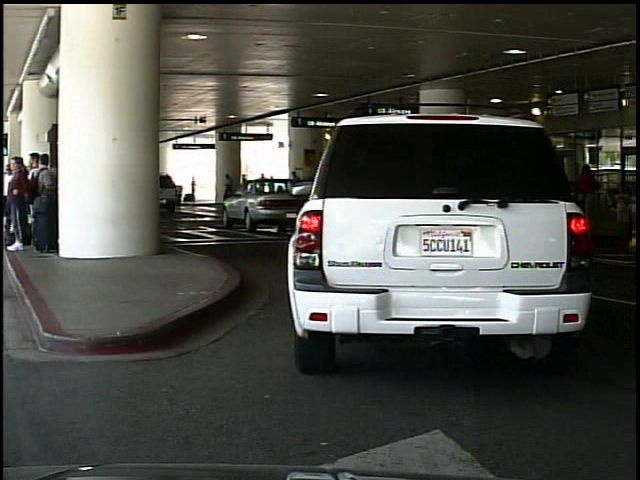person: (574, 160, 604, 246), (225, 171, 236, 198), (191, 177, 198, 204)
